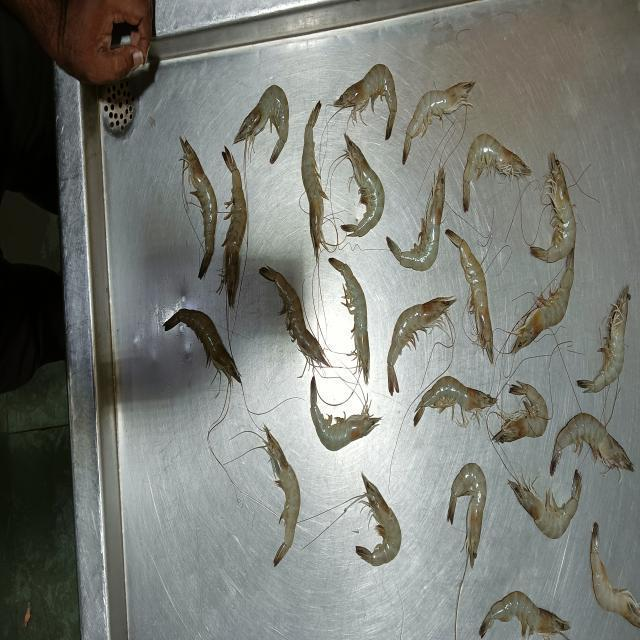shrimp: (259, 267, 329, 367), (387, 297, 455, 394), (510, 250, 573, 353), (164, 309, 241, 390), (446, 230, 493, 362), (387, 165, 444, 270), (403, 81, 475, 163), (578, 286, 630, 391), (463, 134, 531, 211), (310, 376, 380, 450), (550, 413, 634, 474), (180, 137, 216, 278), (263, 426, 299, 566), (590, 525, 639, 627), (329, 258, 369, 382), (530, 153, 575, 262), (509, 471, 581, 538), (332, 64, 396, 138), (480, 591, 570, 639), (342, 133, 384, 235), (235, 85, 288, 163), (414, 376, 495, 427), (221, 146, 247, 304), (357, 474, 401, 565), (302, 100, 328, 253), (448, 463, 486, 566), (492, 382, 547, 442)
